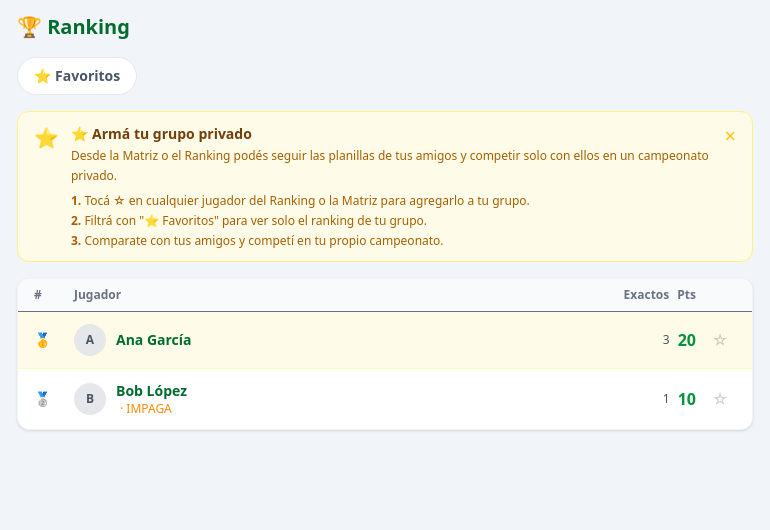
Test: Ranking — filtro favoritos › click en Favoritos activa el filtro → empty state sin favoritos
This screenshot has width=770, height=530.
Click the button "⭐ Favoritos" at (77, 76), box [17, 57, 137, 95]
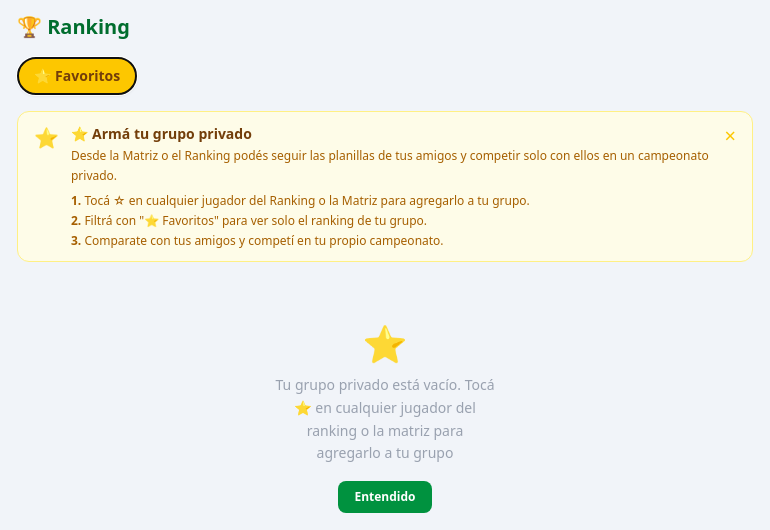
Result: the text "Tu grupo privado está vacío" is shown at [276, 375, 494, 462]
